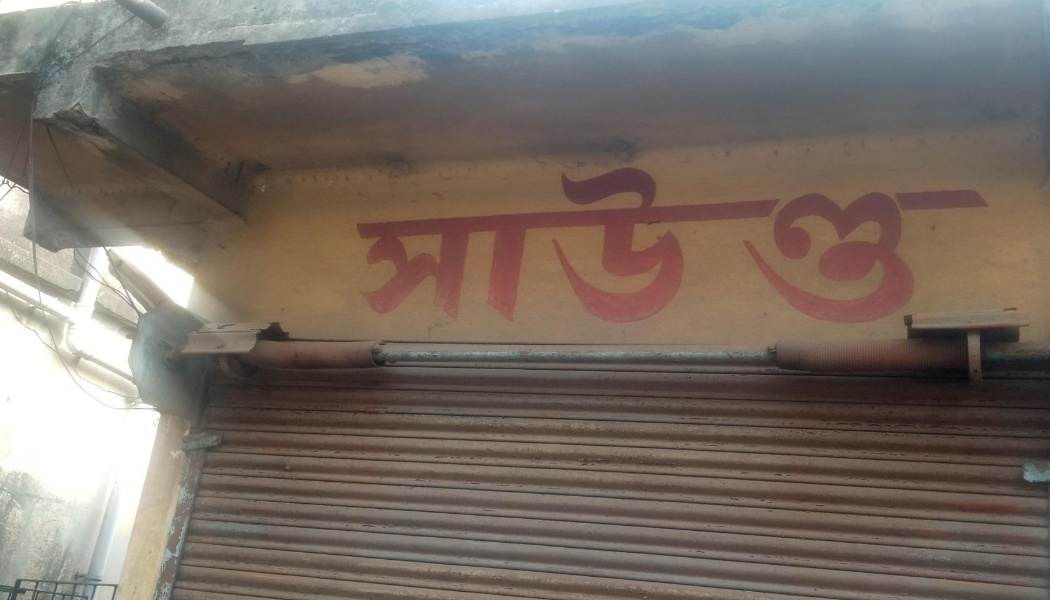text: (17, 131, 32, 431), (33, 131, 48, 431), (49, 131, 64, 431), (65, 131, 80, 431), (81, 131, 96, 431), (97, 131, 112, 431), (113, 131, 128, 431), (129, 131, 144, 431), (145, 131, 160, 431), (161, 131, 176, 431), (177, 131, 192, 431), (193, 131, 208, 431), (209, 131, 224, 431), (225, 131, 240, 431), (241, 131, 256, 431), (257, 131, 270, 431), (369, 146, 384, 341), (385, 146, 400, 341), (401, 146, 416, 341), (417, 146, 432, 341), (433, 146, 448, 341), (449, 146, 464, 341), (465, 146, 480, 341), (481, 146, 496, 341), (497, 146, 512, 341), (513, 146, 528, 341), (529, 146, 544, 341), (545, 146, 560, 341), (561, 146, 576, 341), (577, 146, 592, 341), (593, 146, 608, 341), (609, 146, 624, 341), (625, 146, 640, 341), (641, 146, 656, 341), (657, 146, 672, 341), (673, 146, 688, 341), (689, 146, 704, 341), (705, 146, 720, 341), (721, 146, 736, 341), (737, 146, 752, 341), (753, 146, 768, 341), (769, 146, 784, 341), (785, 146, 800, 341), (801, 146, 816, 341), (817, 146, 832, 341), (833, 146, 848, 341), (849, 146, 864, 341), (865, 146, 880, 341), (881, 146, 896, 341), (897, 146, 912, 341), (913, 146, 928, 341), (929, 146, 944, 341), (945, 146, 960, 341), (961, 146, 976, 341), (977, 146, 992, 341), (8, 131, 16, 431), (993, 146, 1002, 341), (361, 146, 368, 341)
